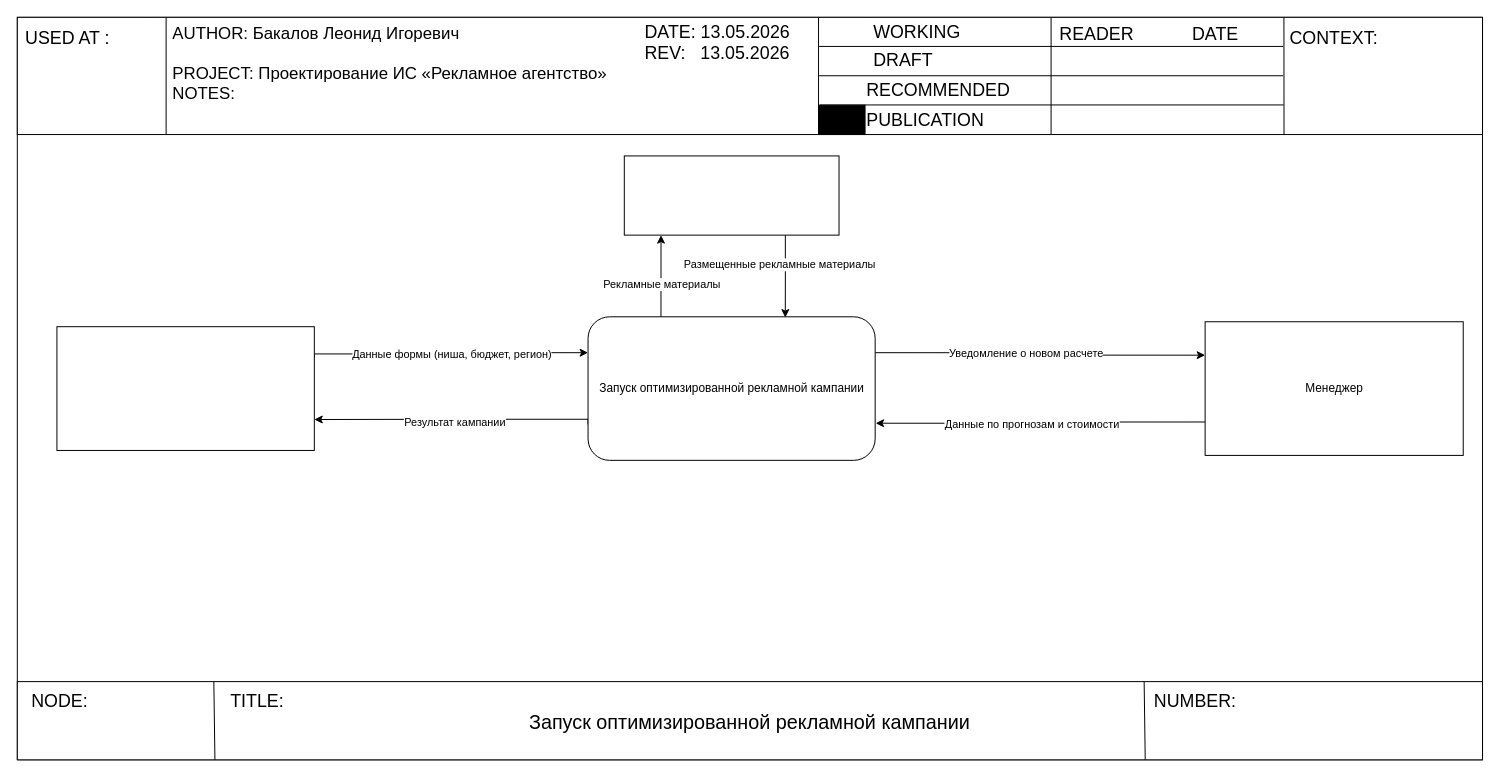
This 1500x778 diagram has some shape labels left out. The box of each missing label's shape, as (x1, y1, x2, y2) in pixels:
Клиент: (56, 326, 314, 450)
Партнеры: (623, 155, 839, 235)
